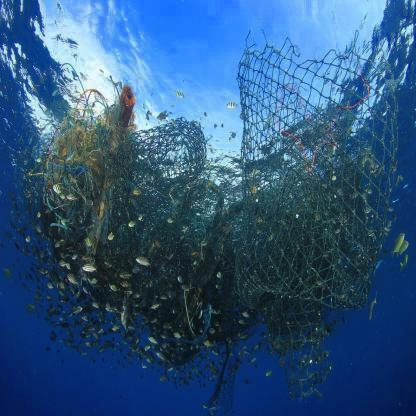net: (70, 58, 393, 320)
